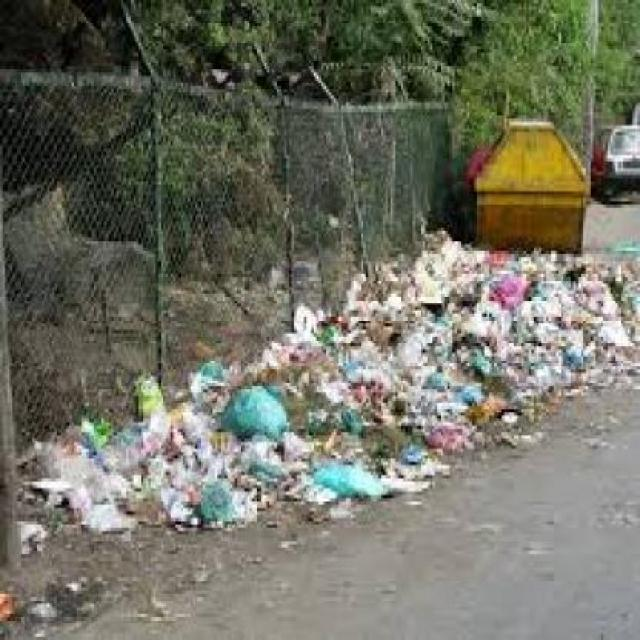garbage: (0, 234, 630, 544)
